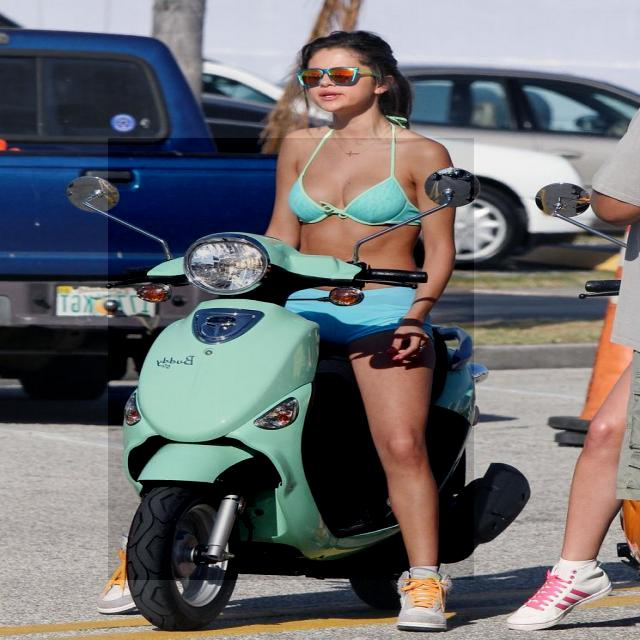Bike: (108, 138, 474, 580)
